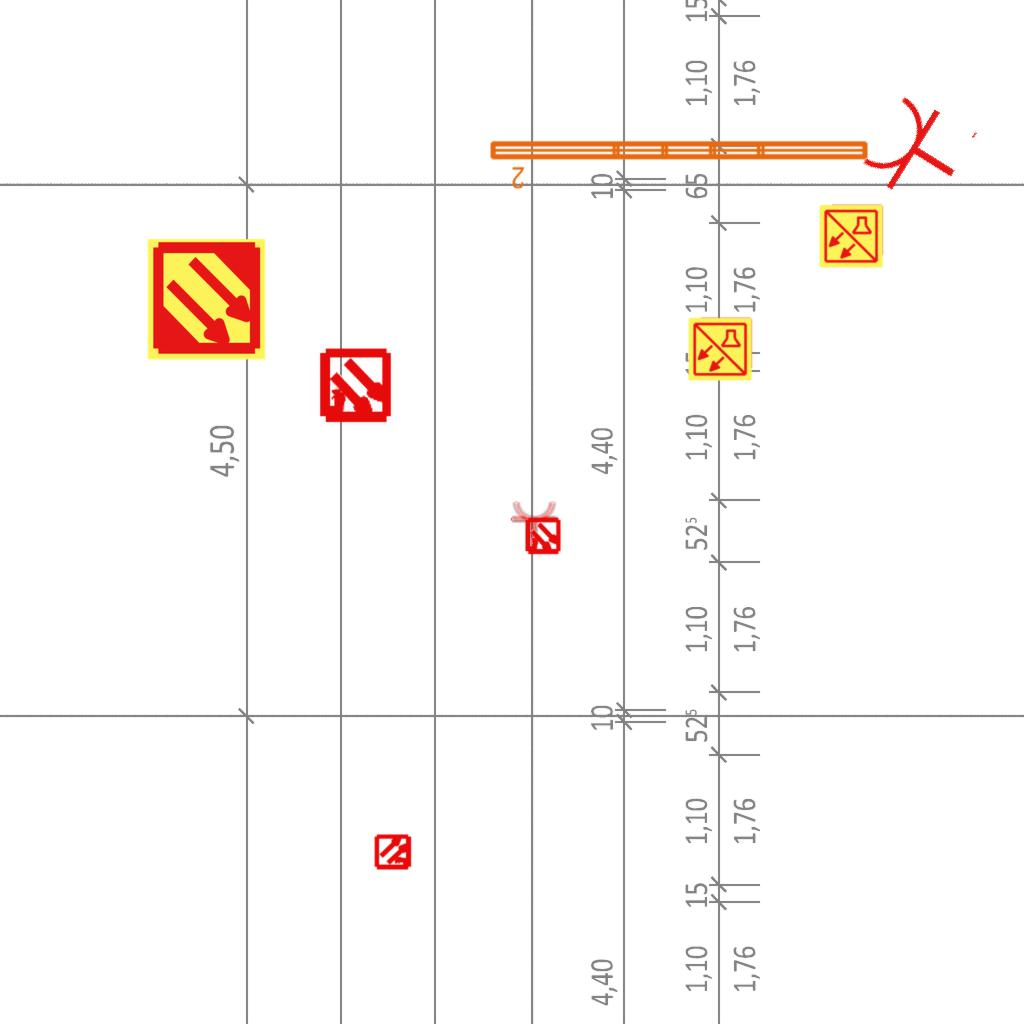ASR_Ansaugrauchmelder: (144, 237, 269, 362)
Ambulanz_Pendelleuchte_LED: (486, 135, 873, 191)
OKW_Multisensormelder_(Kombination_optischer_Rauch-Kahlenmonoxid_Waerme-Melder): (687, 316, 753, 382), (818, 203, 884, 269)
OT_Multisensormelder_(Kombination_RMO_WMD): (299, 331, 412, 444), (366, 824, 422, 880), (515, 509, 571, 565)
Schukosteckdose_einfach: (855, 84, 982, 216), (510, 500, 560, 543)
